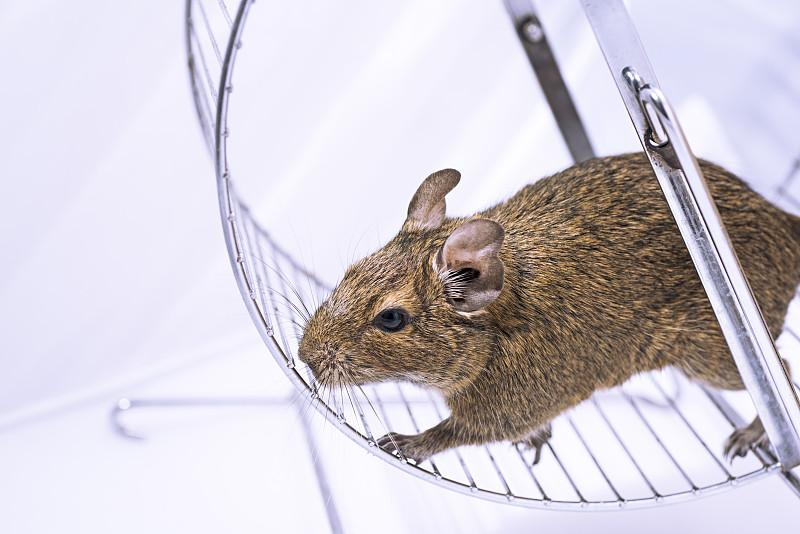rat: (330, 92, 793, 493)
